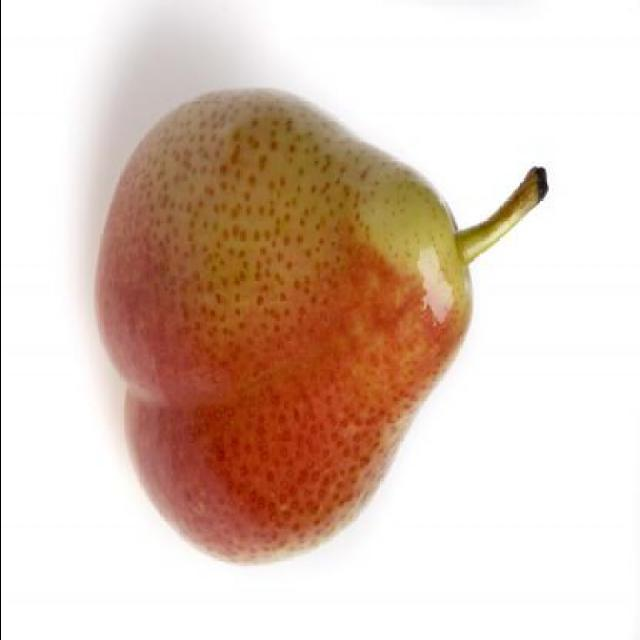Pear: (94, 86, 474, 564)
